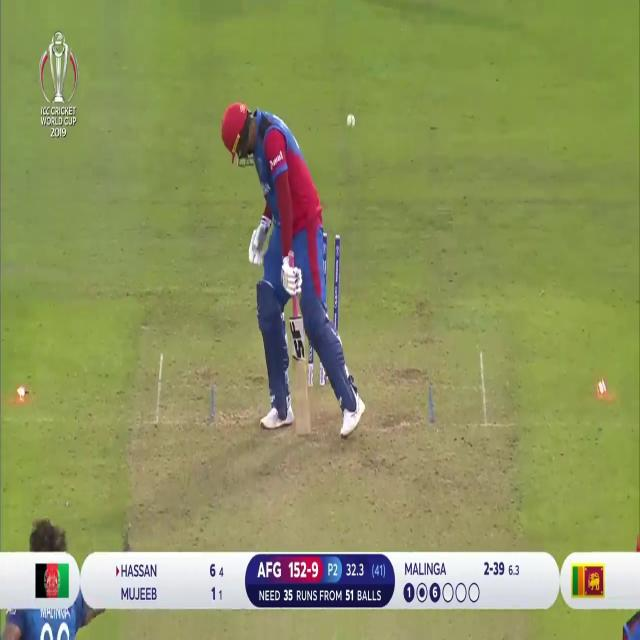ball: (344, 108, 358, 134)
